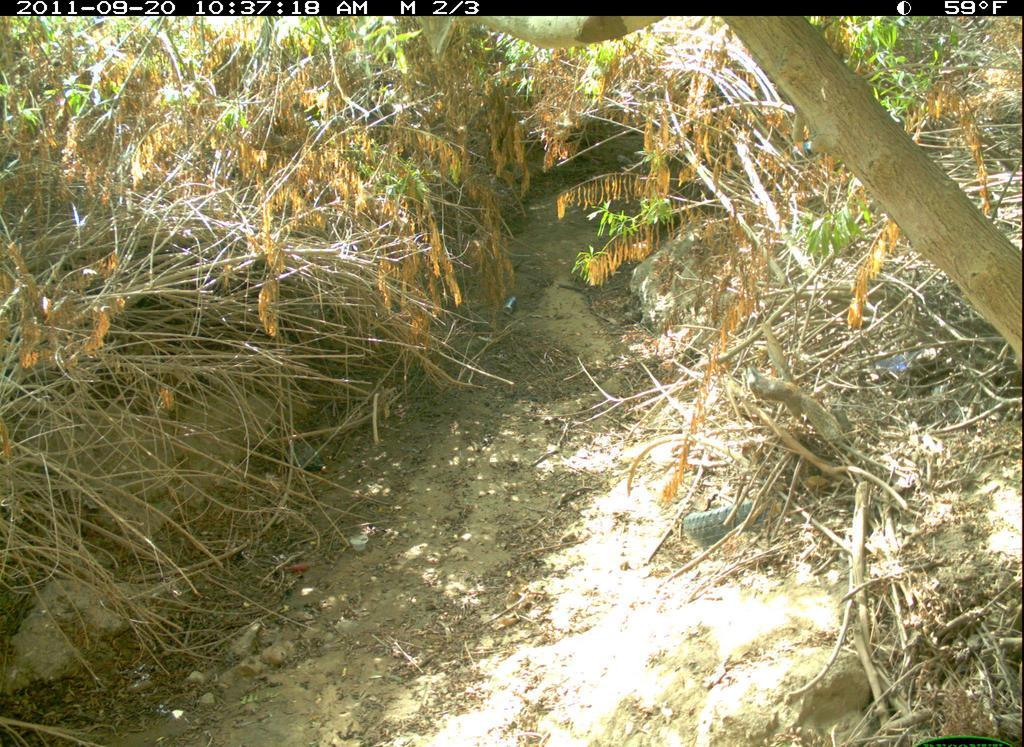squirrel: (742, 365, 858, 456)
